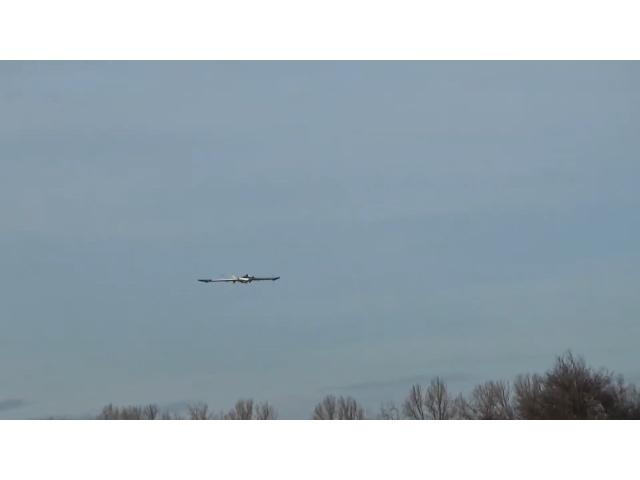Anti-Drone: (198, 277, 280, 284)
